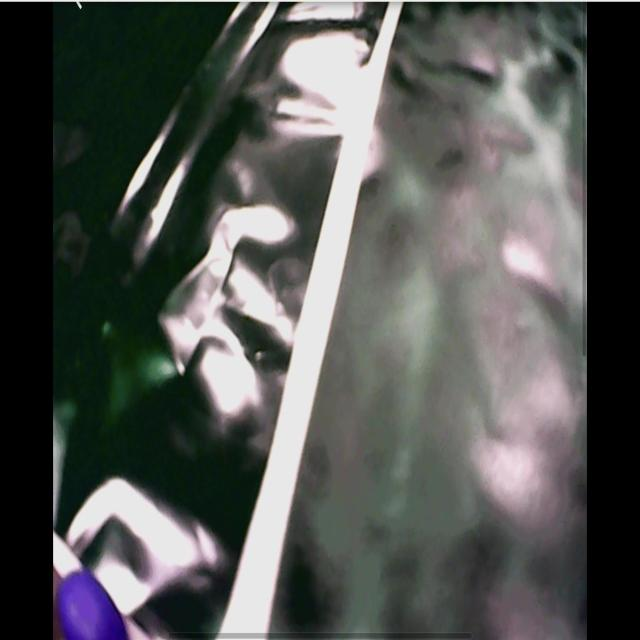ball: (58, 568, 129, 640)
